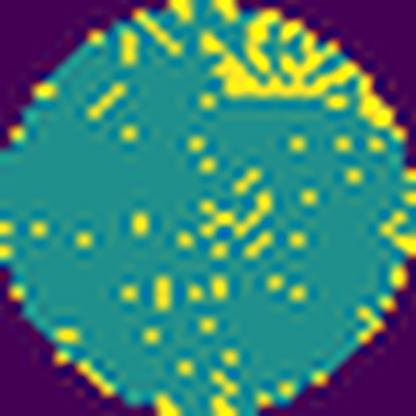Loc: (198, 11, 360, 102)
